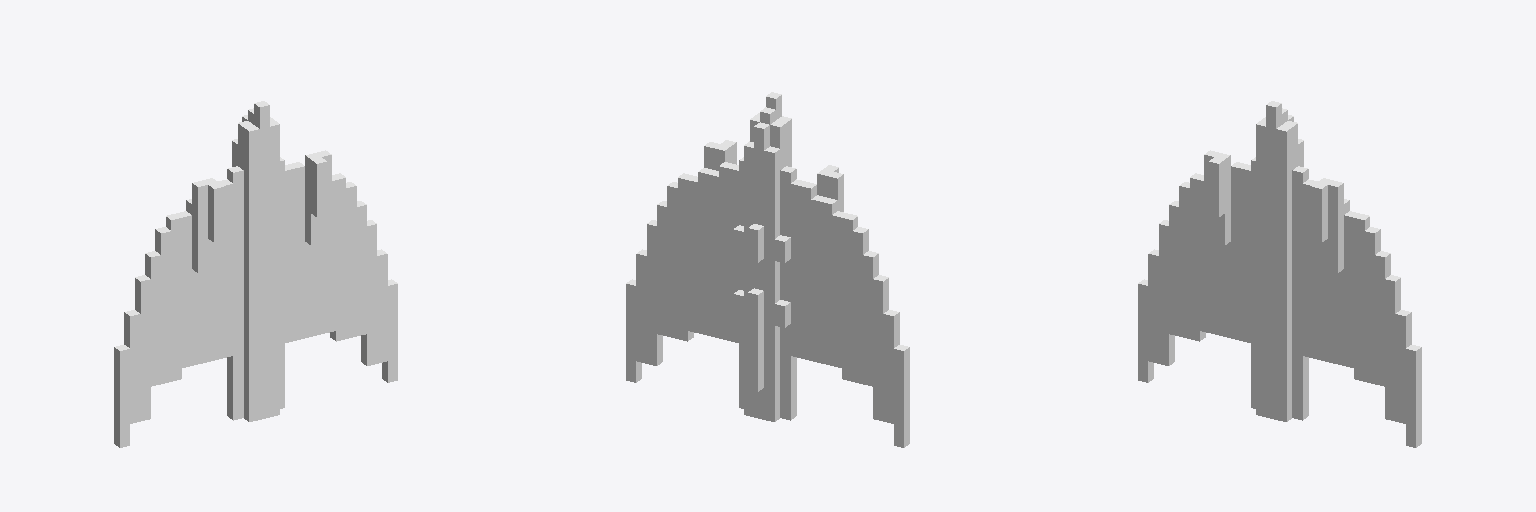
The model's file is ship01.obj.
The picture shows the model from 3 angles: view 1: azimuth 30°, elevation 25°; view 2: azimuth 150°, elevation 25°; view 3: azimuth 330°, elevation 25°; orthographic projection.
Visible parts, largest first — view 1: ship01; view 2: ship01; view 3: ship01.
Boxes of the visible parts, box(x1,y1,x2,y2) form: ship01: box(114, 101, 397, 447); ship01: box(626, 92, 909, 447); ship01: box(1138, 101, 1421, 447).
Bounding box in the file's own units: 27 × 29 × 5.